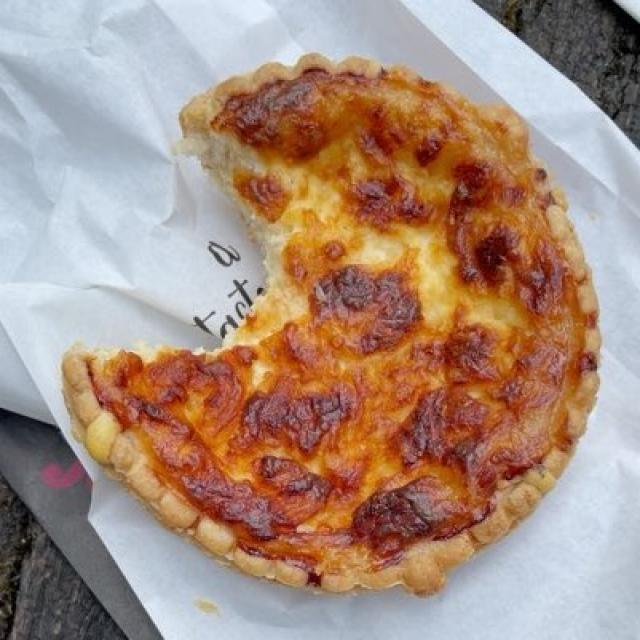quiche: (74, 65, 593, 575)
